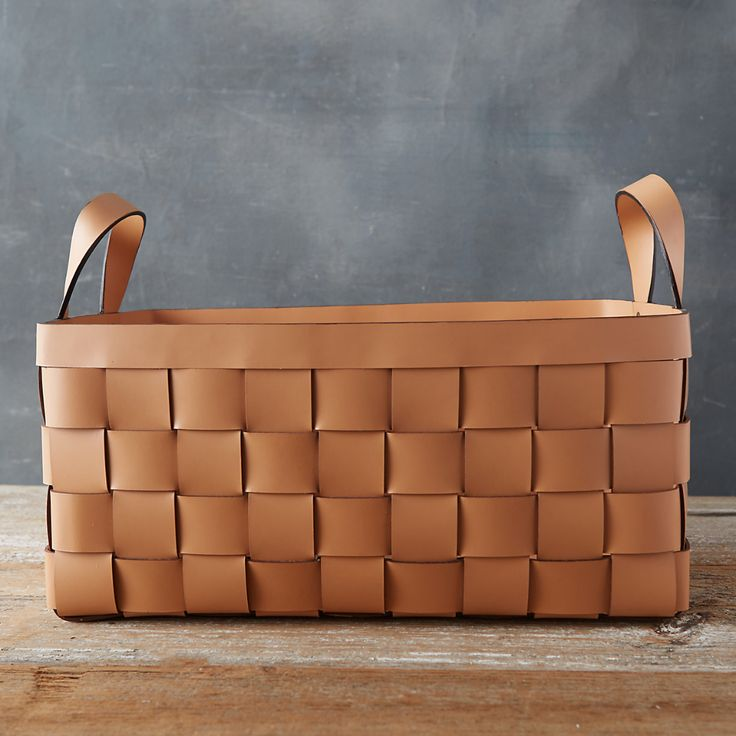cuero: (35, 170, 694, 618)
